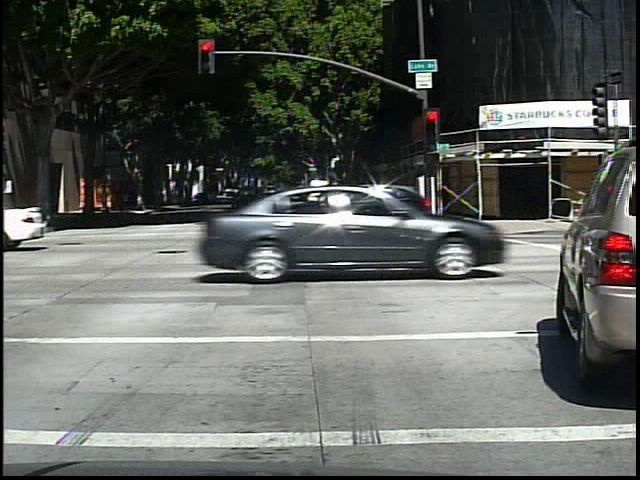person: (96, 185, 111, 220)
